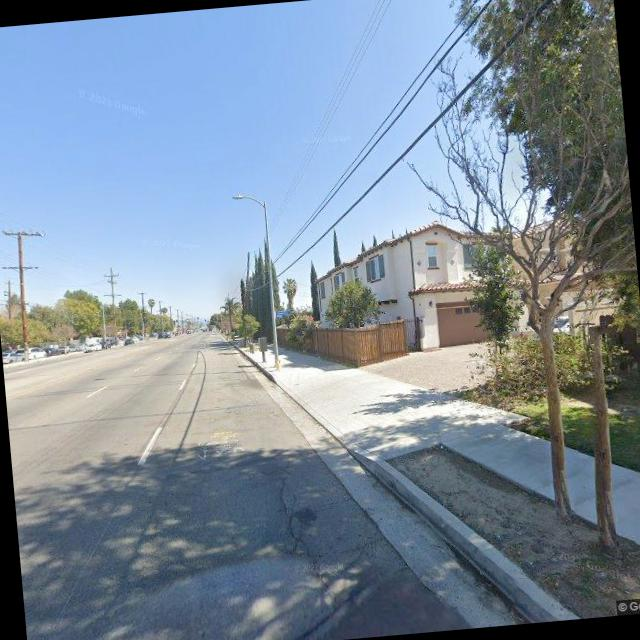pothole: (268, 446, 342, 606)
